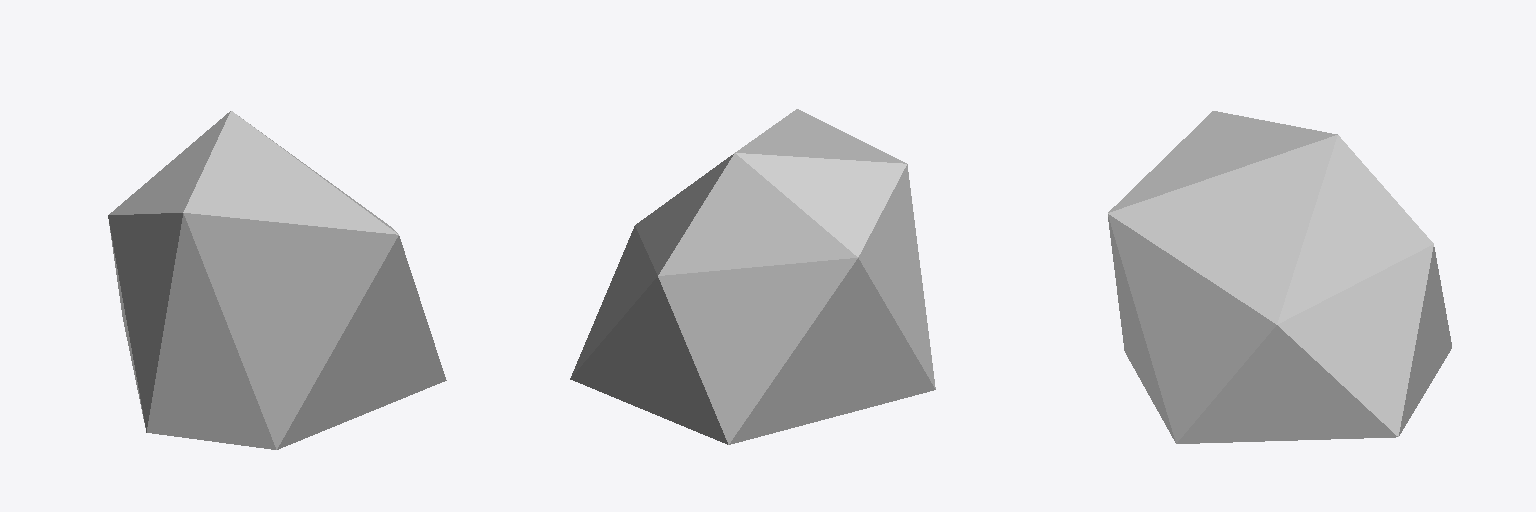
Rendered from IronOreStone.obj.
3 renders of one model, left to right at view 1: azimuth 30°, elevation 25°; view 2: azimuth 150°, elevation 25°; view 3: azimuth 270°, elevation 25°, orthographic.
Parts seen in each view (by area): view 1: Icosphere.002; view 2: Icosphere.002; view 3: Icosphere.002.
Part boxes in pixels (left/top/right/bottom): Icosphere.002: left=108, top=111, right=446, bottom=449; Icosphere.002: left=570, top=109, right=935, bottom=444; Icosphere.002: left=1108, top=111, right=1451, bottom=443.
Bounding box in the file's own units: 1.51 × 1.29 × 1.63.